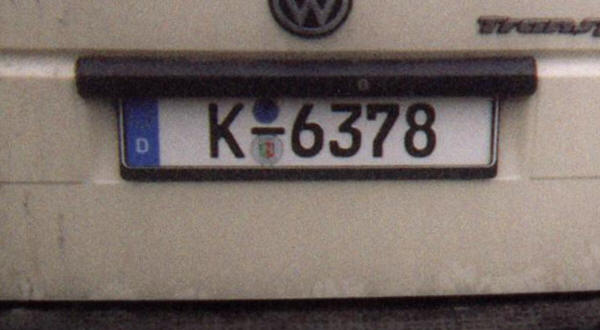license_plate: (118, 91, 496, 168)
